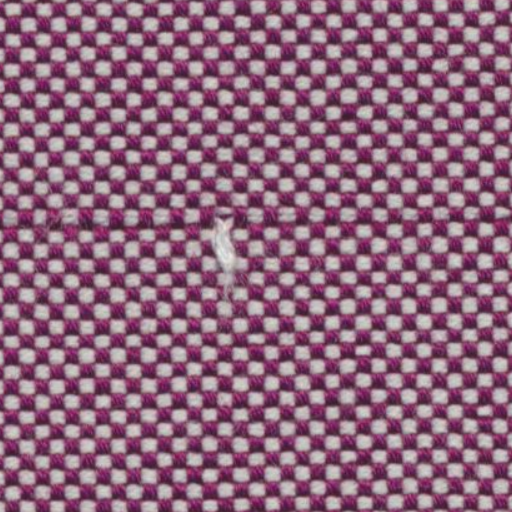DuanSha: (188, 184, 248, 311)
